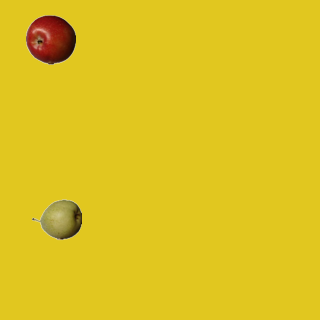Apple Braeburn: (25, 14, 75, 64)
Pear: (31, 194, 81, 244)
